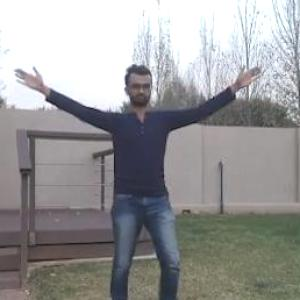takeoff: (5, 67, 240, 299)
